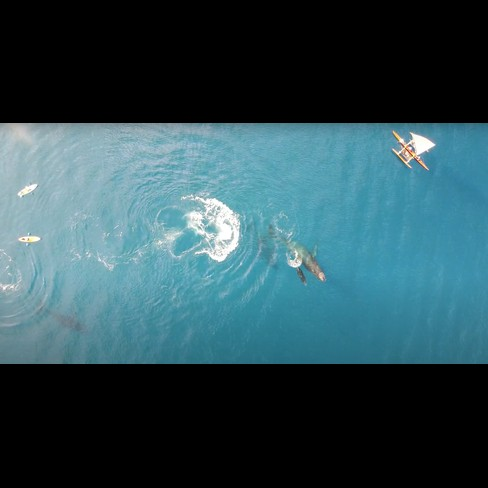boat: (383, 126, 441, 177)
hump: (255, 220, 337, 289)
